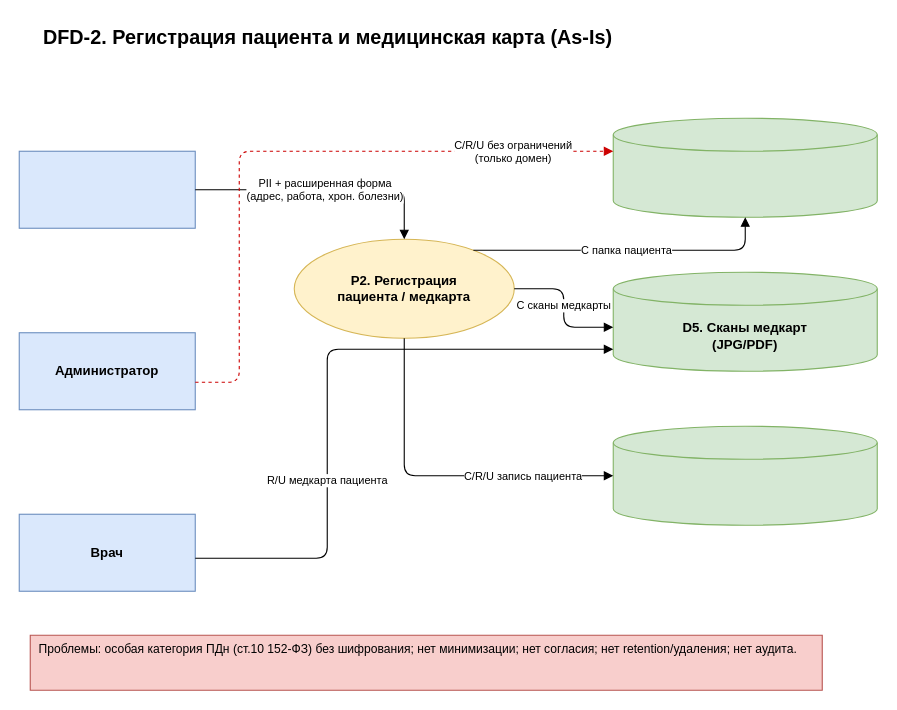
Some shapes in this 897 by 710 pixel diagram are drawn without their labels. The shapes that lost their labels are listed below. From the top down, each one's centre as x and y in pixels, then its label:
At pixel 744 167: "D4. Папка Pacients/Pacient1-FIO-BD".
At pixel 106 189: "Пациент".
At pixel 744 475: "D2. Excel Patients".
